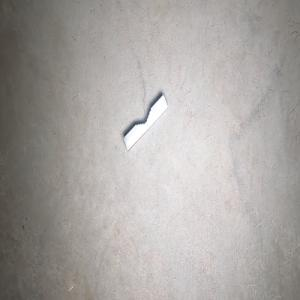ClampPart: (123, 93, 169, 152)
